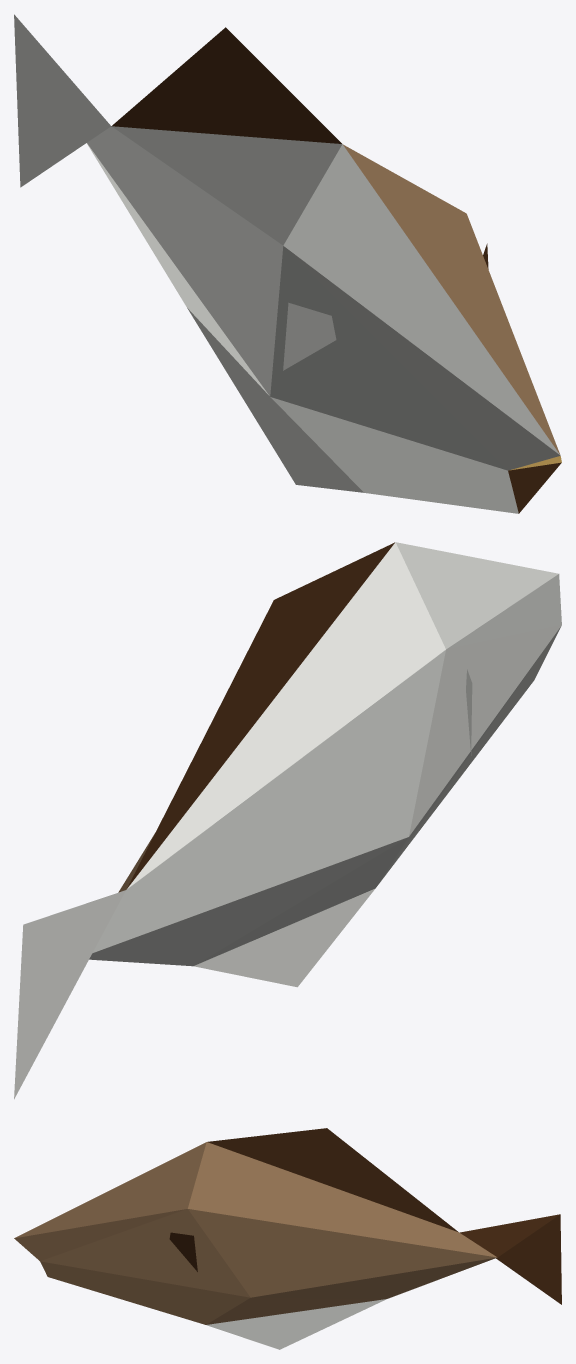
Rendered from halibut.obj.
The picture shows the model from 3 angles, top to bottom: view 1: azimuth 30°, elevation 25°; view 2: azimuth 150°, elevation 25°; view 3: azimuth 270°, elevation 25°; orthographic projection. The views are drawn at different scales.
Parts seen in each view (by area): view 1: 000_Halibut; view 2: 000_Halibut; view 3: 000_Halibut.
Boxes of the visible parts, <box> form: 000_Halibut: <box>14,14,561,513</box>; 000_Halibut: <box>14,542,561,1099</box>; 000_Halibut: <box>14,1128,561,1349</box>.
Bounding box in the file's own units: 12.7 × 25.16 × 57.83.
Materials: 1 (1 with a texture image).
